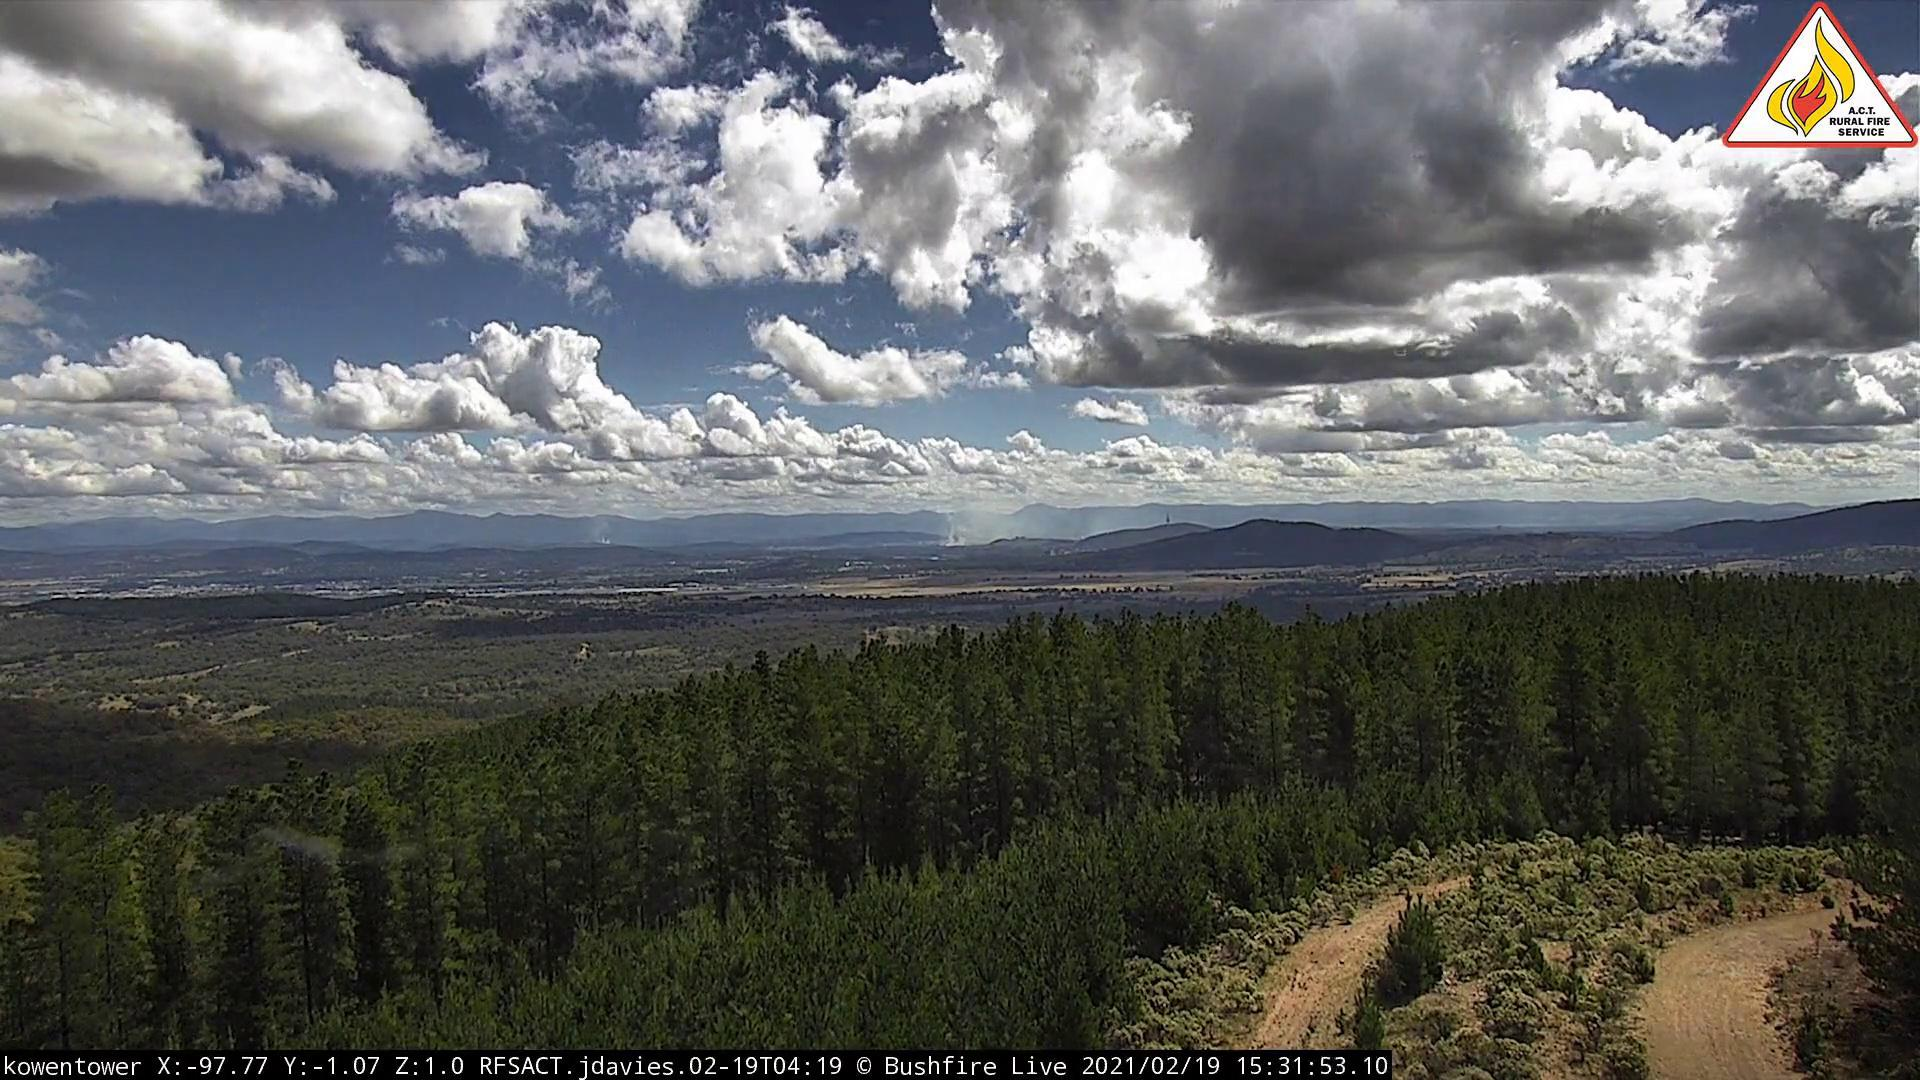Smoke: (939, 498, 1060, 551), (592, 529, 616, 553)
